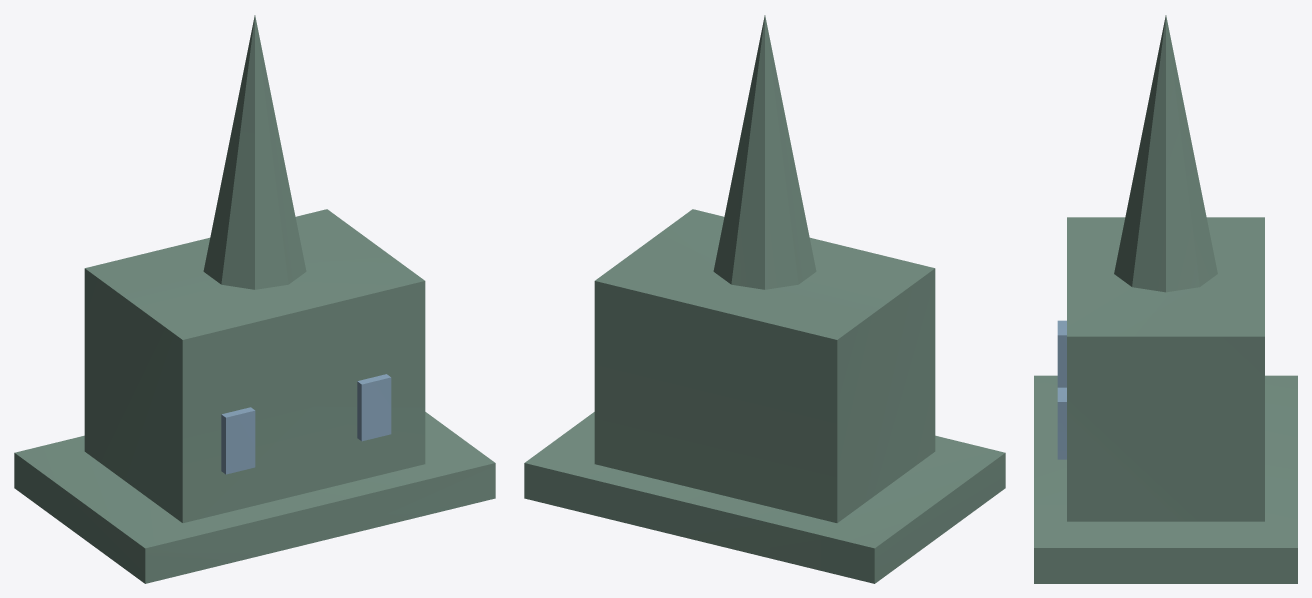
File: monument-07.glb
The picture shows the model from 3 angles, left to right: view 1: azimuth 30°, elevation 25°; view 2: azimuth 150°, elevation 25°; view 3: azimuth 270°, elevation 25°; orthographic projection.
Visible parts, largest first — view 1: world; view 2: world; view 3: world.
Part boxes in pixels (x1=…): world: x1=14, y1=15, x2=495, y2=583; world: x1=524, y1=15, x2=1005, y2=583; world: x1=1034, y1=15, x2=1297, y2=583.
Bounding box in the file's own units: 1.55 × 2.02 × 1.
